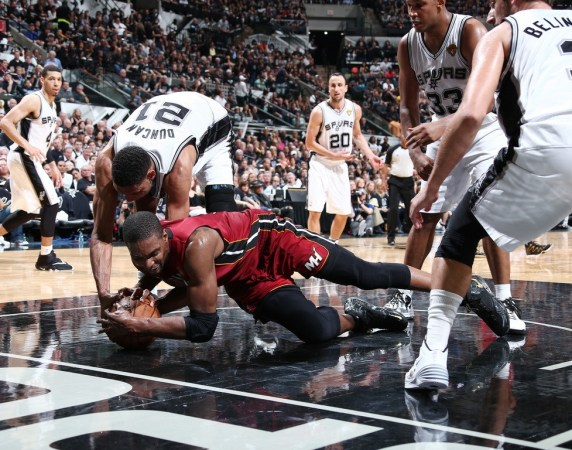10+: (1, 3, 570, 393)
down: (88, 207, 540, 371)
